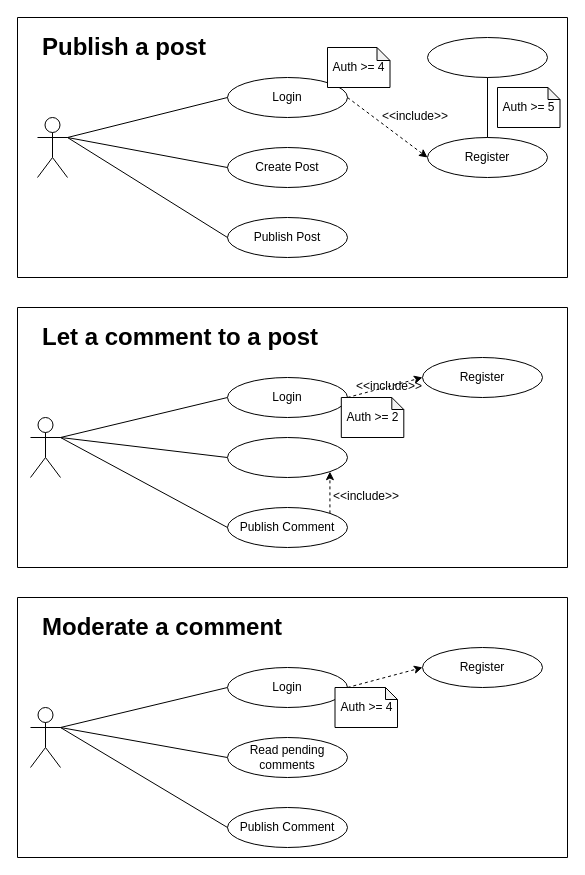
The diagram is 585 pixels wide and 875 high, and some of its shapes have lost their labels. The shapes that lost their labels are listed below. From the top down, each one's box as (x1, y1, x2, y2) in pixels, then its label:
(426, 36, 548, 78): Set profile
(36, 116, 68, 178): Publisher
(30, 416, 60, 478): User
(226, 436, 348, 478): Select a Post
(30, 706, 60, 768): Editor
